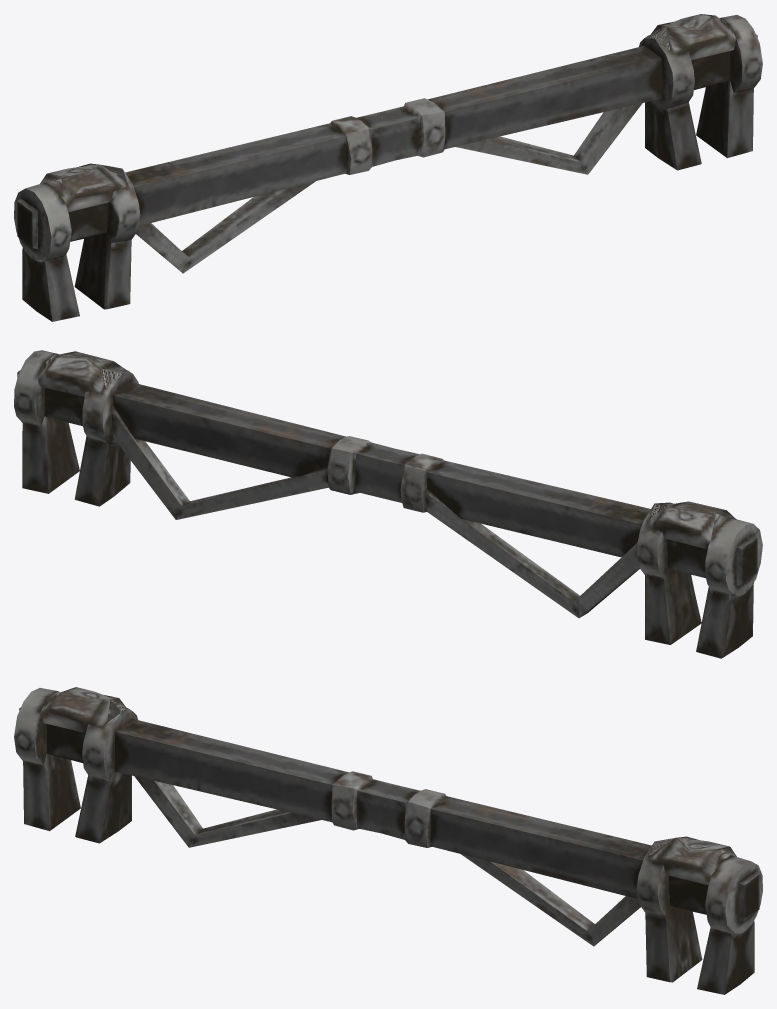
File: plane_wreckage_metalpart_04.dae
3 renders of one model, top to bottom at view 1: azimuth 30°, elevation 25°; view 2: azimuth 150°, elevation 25°; view 3: azimuth 330°, elevation 25°, orthographic.
Visible parts, largest first — view 1: plane_wreckage_metalpart_04; view 2: plane_wreckage_metalpart_04; view 3: plane_wreckage_metalpart_04.
Part boxes in pixels (x1=…): plane_wreckage_metalpart_04: x1=14, y1=14, x2=762, y2=321; plane_wreckage_metalpart_04: x1=14, y1=350, x2=762, y2=658; plane_wreckage_metalpart_04: x1=14, y1=687, x2=762, y2=994.
Size of the model in its own units: 122 by 20.61 by 10.94.
